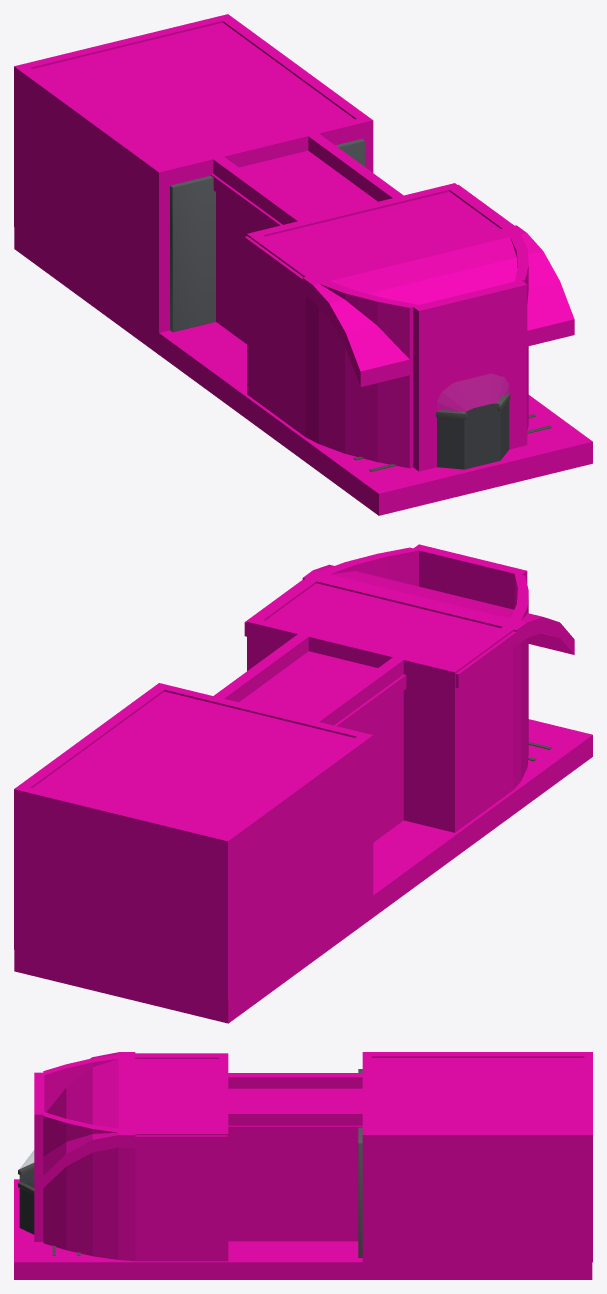
File: ship-interior.glb
3 renders of one model, top to bottom at view 1: azimuth 30°, elevation 25°; view 2: azimuth 150°, elevation 25°; view 3: azimuth 270°, elevation 25°, orthographic. The views are drawn at different scales.
Visible parts, largest first — view 1: COL_Ceil_Bay, COL_Wall_Bay_L, COL_Floor, COL_Nose, COL_Ceil_Ck, COL_Wall_Ck_L, SM_Bulk_Bay_L, COL_Wall_Cr_L, COL_Ceil_Cr, COL_Canopy_Roof0, COL_Canopy_Roof1, COL_Canopy_L0 (+17 smaller); view 2: COL_Wall_Bay_Rear, COL_Ceil_Bay, COL_Wall_Bay_L, COL_Floor, COL_Ceil_Ck, COL_Bulk_Ck_L, COL_Wall_Ck_L, COL_Wall_Cr_L, COL_Ceil_Cr, COL_Nose, COL_Canopy_Roof3, COL_Canopy_Roof2 (+11 smaller); view 3: COL_Wall_Bay_R, COL_Ceil_Bay, COL_Wall_Cr_R, COL_Floor, COL_Wall_Ck_R, COL_Ceil_Ck, COL_Ceil_Cr, COL_Canopy_R2, COL_Canopy_R1, COL_Canopy_R0, COL_Canopy_Roof2, COL_Wall_Cr_L (+16 smaller).
Part boxes in pixels (x1=…): COL_Ceil_Bay: x1=14, y1=22, x2=373, y2=188; COL_Wall_Bay_L: x1=18, y1=67, x2=169, y2=332; COL_Floor: x1=14, y1=227, x2=592, y2=515; COL_Nose: x1=413, y1=280, x2=527, y2=471; COL_Ceil_Ck: x1=244, y1=184, x2=514, y2=293; COL_Wall_Ck_L: x1=252, y1=235, x2=315, y2=436; SM_Bulk_Bay_L: x1=170, y1=175, x2=215, y2=332; COL_Wall_Cr_L: x1=213, y1=157, x2=313, y2=343; COL_Ceil_Cr: x1=211, y1=150, x2=377, y2=228; COL_Canopy_Roof0: x1=346, y1=281, x2=574, y2=387; COL_Canopy_Roof1: x1=329, y1=251, x2=559, y2=348; COL_Canopy_L0: x1=377, y1=299, x2=419, y2=468; COL_Wall_Bay_Rear: x1=14, y1=786, x2=233, y2=1001; COL_Ceil_Bay: x1=14, y1=691, x2=373, y2=856; COL_Wall_Bay_L: x1=223, y1=734, x2=373, y2=997; COL_Floor: x1=14, y1=719, x2=592, y2=1023; COL_Ceil_Ck: x1=244, y1=580, x2=517, y2=688; COL_Bulk_Ck_L: x1=393, y1=653, x2=459, y2=832; COL_Wall_Ck_L: x1=450, y1=627, x2=513, y2=828; COL_Wall_Cr_L: x1=308, y1=653, x2=408, y2=842; COL_Ceil_Cr: x1=239, y1=651, x2=406, y2=729; COL_Nose: x1=413, y1=544, x2=527, y2=609; COL_Canopy_Roof3: x1=302, y1=570, x2=526, y2=644; COL_Canopy_Roof2: x1=313, y1=564, x2=543, y2=637; COL_Wall_Bay_R: x1=362, y1=1131, x2=586, y2=1262; COL_Ceil_Bay: x1=362, y1=1058, x2=592, y2=1147; COL_Wall_Cr_R: x1=219, y1=1110, x2=362, y2=1241; COL_Floor: x1=14, y1=1179, x2=592, y2=1279; COL_Wall_Ck_R: x1=135, y1=1129, x2=220, y2=1261; COL_Ceil_Ck: x1=133, y1=1059, x2=227, y2=1147; COL_Ceil_Cr: x1=228, y1=1088, x2=362, y2=1137; COL_Canopy_R2: x1=92, y1=1125, x2=118, y2=1259; COL_Canopy_R1: x1=66, y1=1119, x2=92, y2=1256; COL_Canopy_R0: x1=43, y1=1112, x2=66, y2=1249; COL_Canopy_Roof2: x1=92, y1=1052, x2=118, y2=1152; COL_Wall_Cr_L: x1=219, y1=1073, x2=364, y2=1088.
Size of the model in its own units: 3.56 by 2.9 by 10.51.
